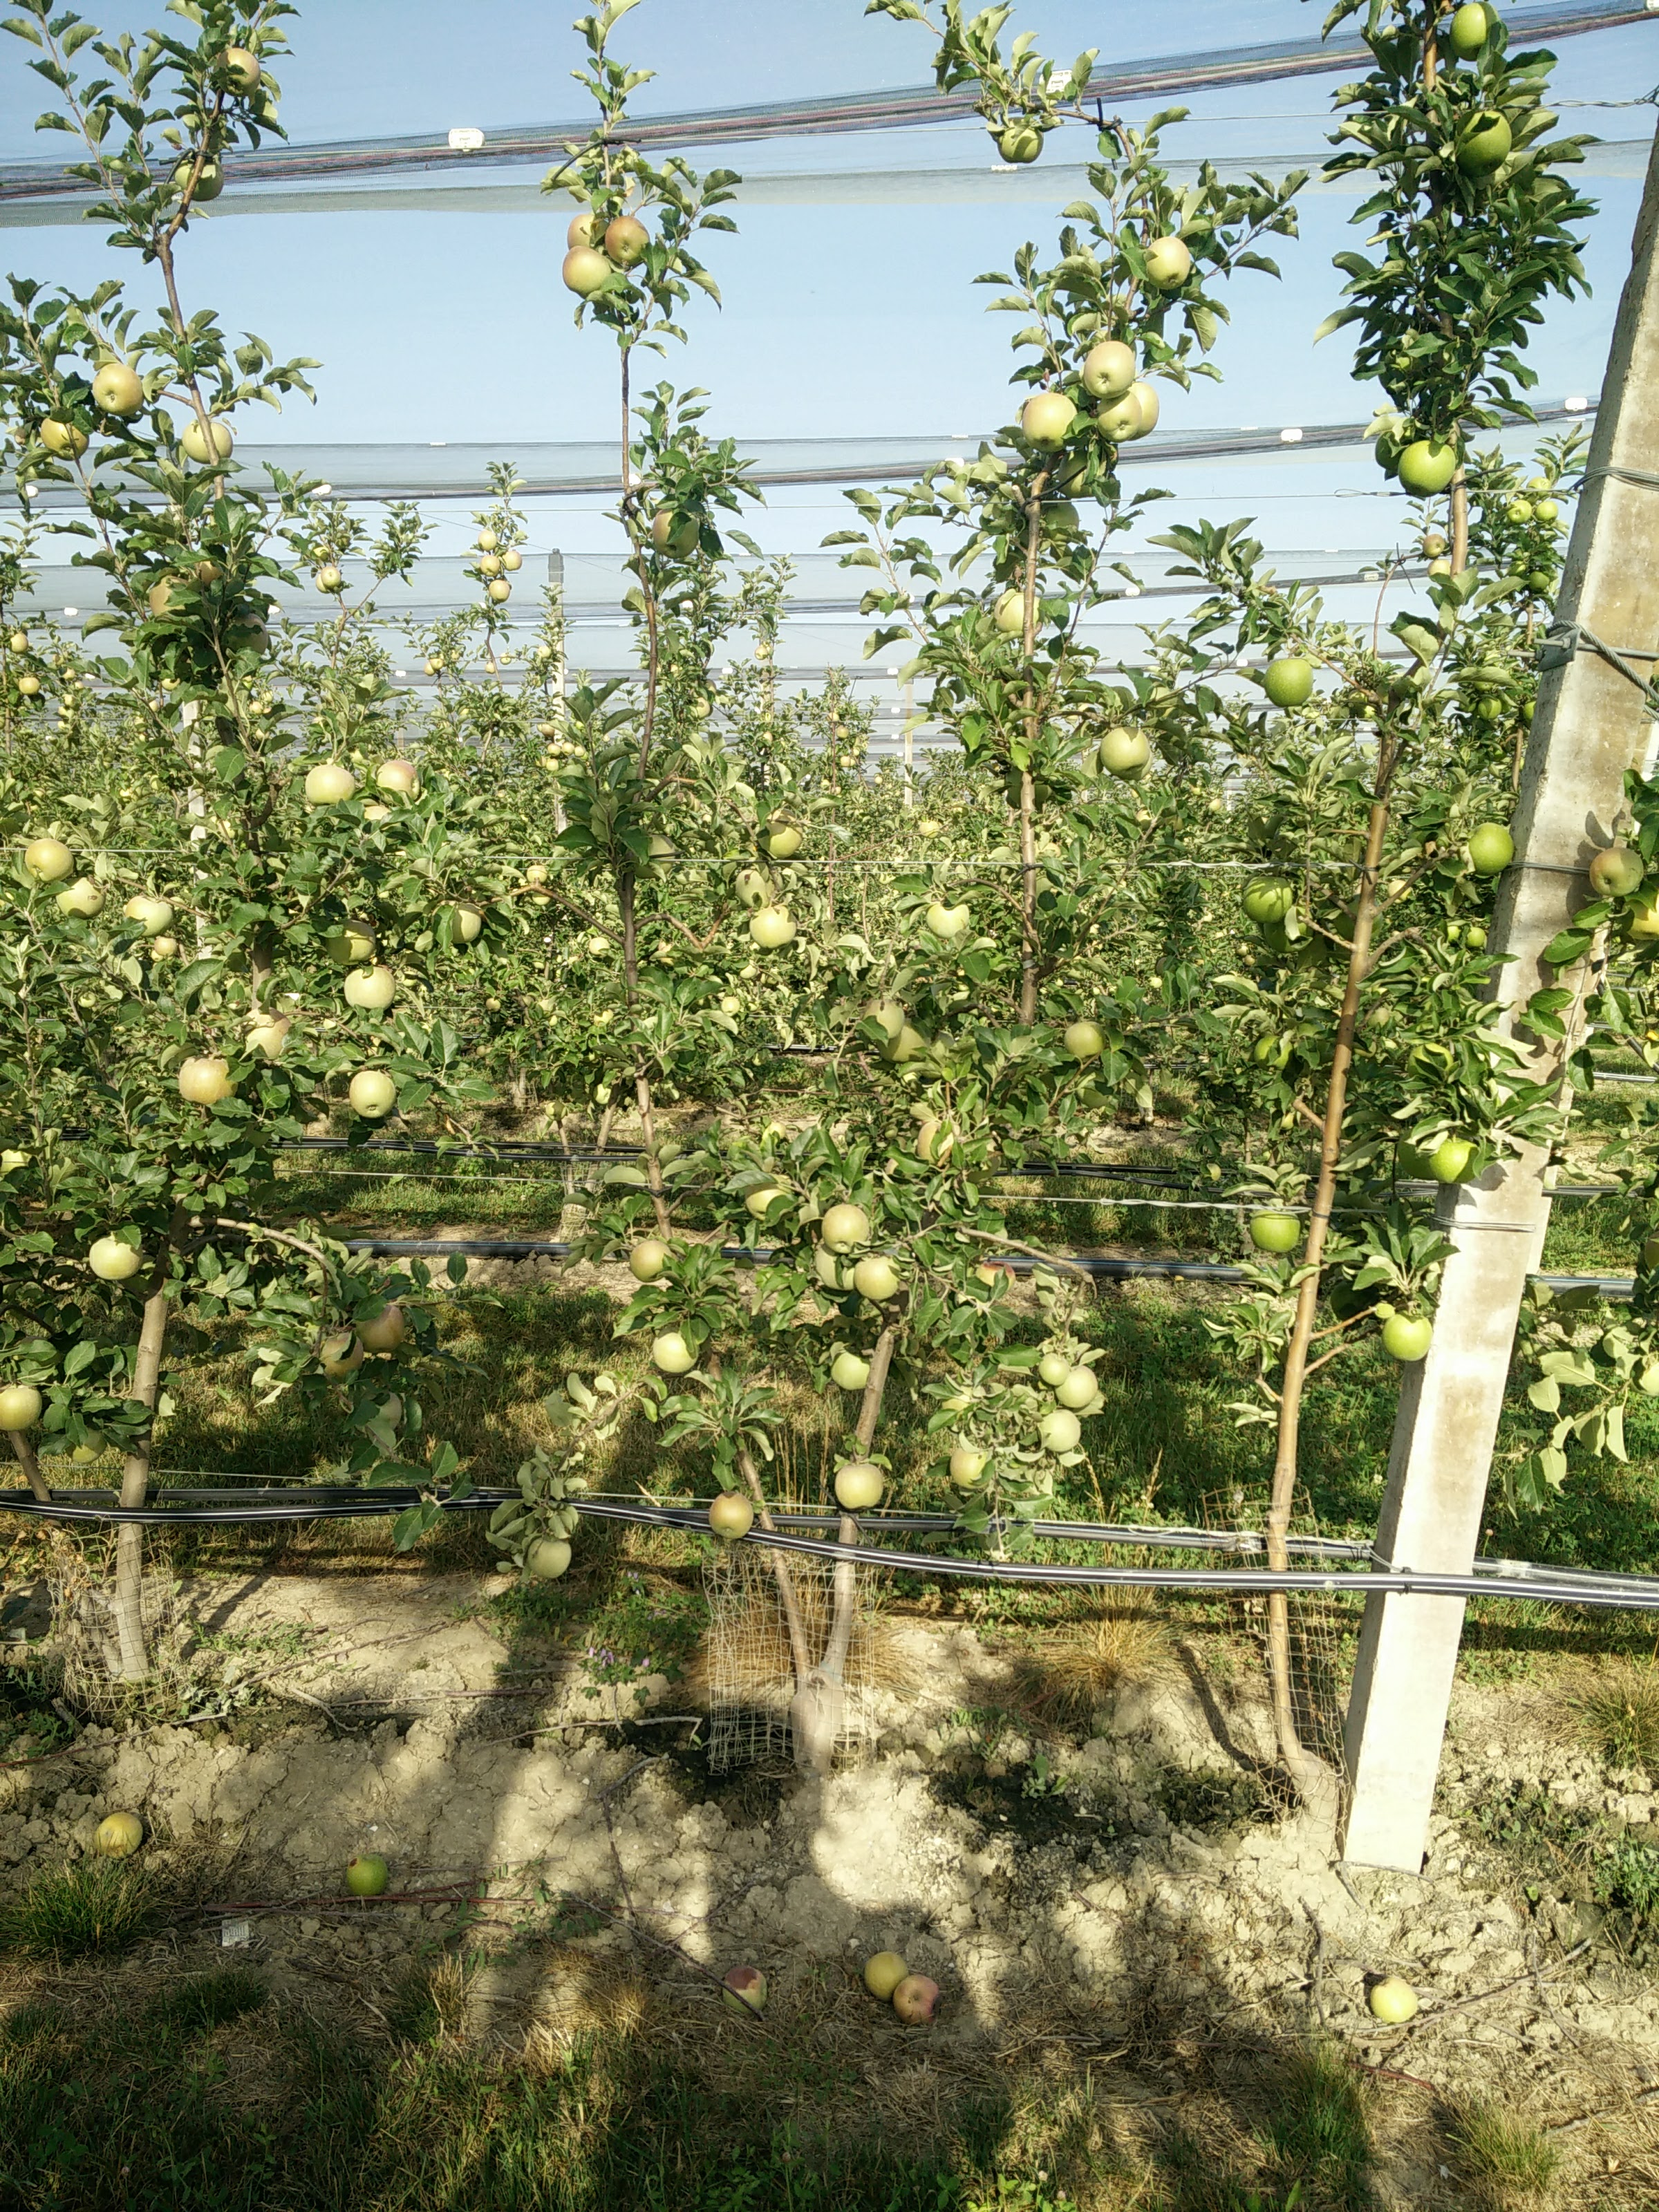apple: (1018, 389, 1083, 447), (1451, 106, 1519, 165), (1436, 1, 1500, 56), (1395, 437, 1459, 490), (1378, 1311, 1438, 1366), (1083, 340, 1138, 397), (818, 1206, 872, 1259), (1588, 843, 1644, 897), (831, 1463, 892, 1510), (299, 759, 355, 811), (1427, 1138, 1483, 1188), (176, 1054, 233, 1103), (1094, 729, 1154, 778), (342, 1069, 403, 1115), (558, 248, 612, 299), (945, 1438, 1001, 1487), (1092, 393, 1143, 444), (341, 964, 395, 1014), (33, 409, 88, 458), (1138, 240, 1195, 285), (706, 1493, 756, 1543), (372, 758, 422, 807), (1250, 1205, 1302, 1254), (1029, 1405, 1083, 1452), (597, 217, 655, 262), (90, 1235, 145, 1280), (988, 588, 1044, 632), (1470, 821, 1513, 876), (360, 1300, 411, 1349), (92, 365, 145, 411), (24, 834, 79, 878), (122, 894, 182, 934), (181, 422, 233, 465), (523, 1533, 576, 1577), (1264, 662, 1319, 704), (650, 1332, 704, 1374), (1049, 1368, 1097, 1413), (57, 872, 103, 919), (921, 901, 973, 940), (824, 1354, 877, 1394), (751, 908, 801, 948), (629, 1237, 675, 1280), (856, 1259, 904, 1299), (1061, 1022, 1108, 1063), (1, 1389, 41, 1435)
